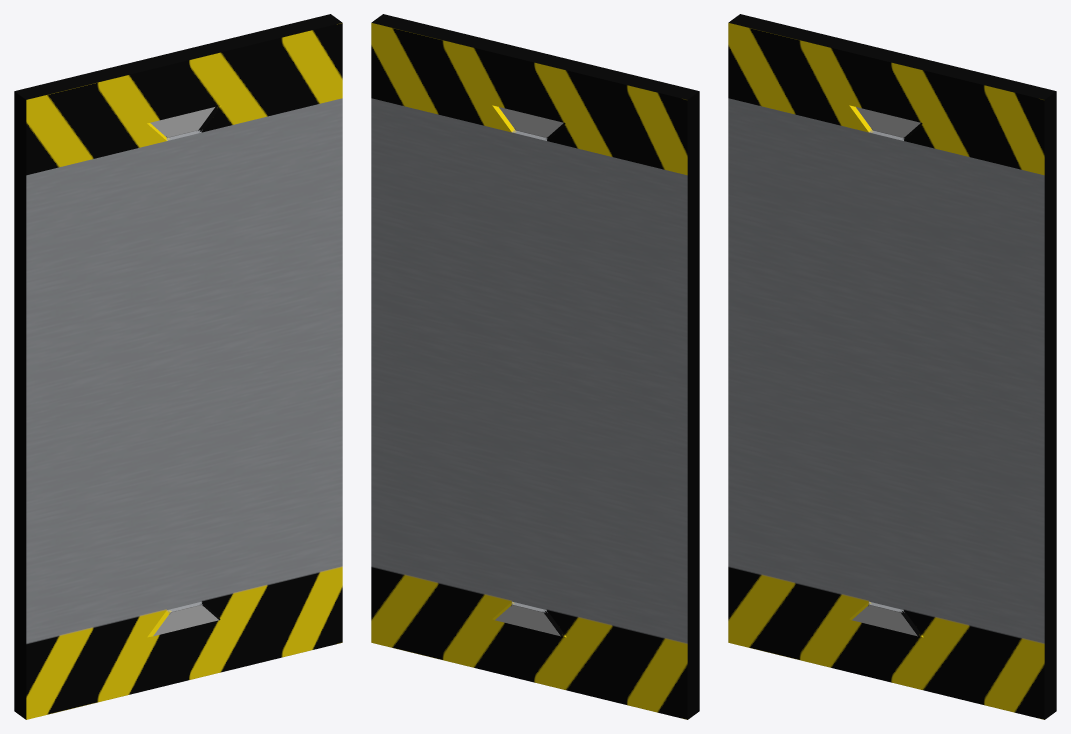
The model's file is Door.fbx.
The picture shows the model from 3 angles, left to right: view 1: azimuth 30°, elevation 25°; view 2: azimuth 150°, elevation 25°; view 3: azimuth 330°, elevation 25°; orthographic projection.
Visible parts, largest first — view 1: Cube; view 2: Cube; view 3: Cube.
Boxes of the visible parts, x1=… form: Cube: x1=14, y1=14, x2=342, y2=719; Cube: x1=371, y1=14, x2=699, y2=719; Cube: x1=728, y1=14, x2=1056, y2=719.
Size of the model in its own units: 311 by 582 by 26.17.
